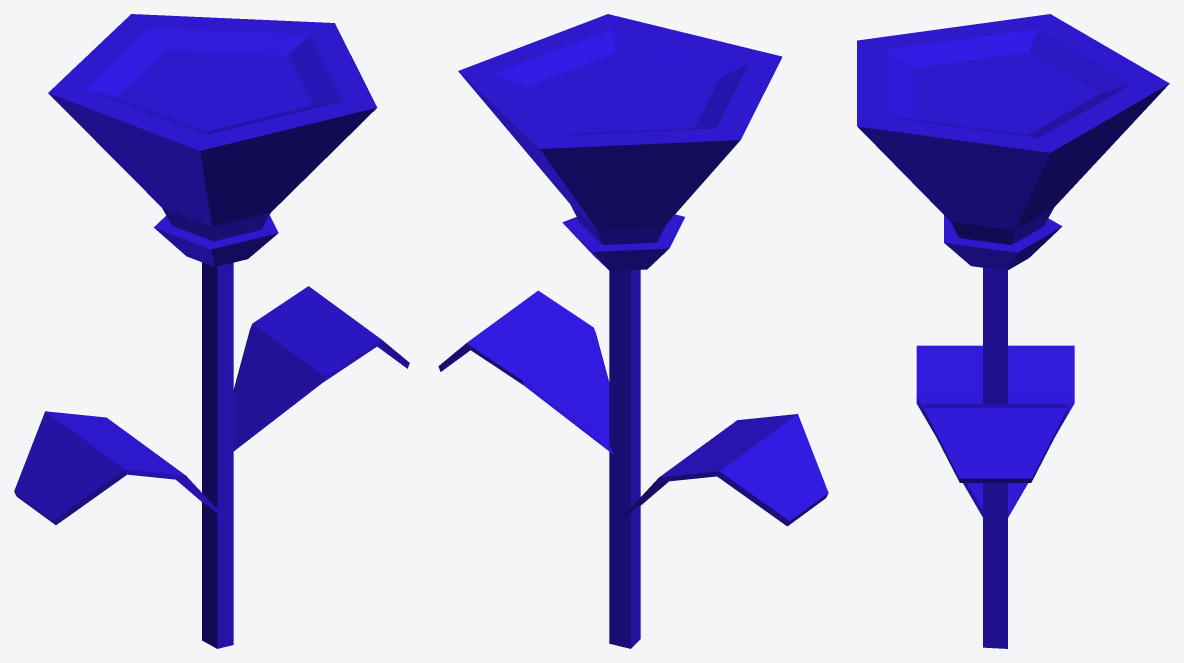
File: Flower_4_Snow.glb
3 renders of one model, left to right at view 1: azimuth 30°, elevation 25°; view 2: azimuth 150°, elevation 25°; view 3: azimuth 270°, elevation 25°, orthographic.
Visible parts, largest first — view 1: Flower_4_Snow.001; view 2: Flower_4_Snow.001; view 3: Flower_4_Snow.001.
Part boxes in pixels (x1=…): Flower_4_Snow.001: x1=14, y1=14, x2=409, y2=648; Flower_4_Snow.001: x1=438, y1=14, x2=828, y2=648; Flower_4_Snow.001: x1=857, y1=14, x2=1169, y2=648.
Bounding box in the file's own units: 0.6189 × 0.9315 × 0.4714.
